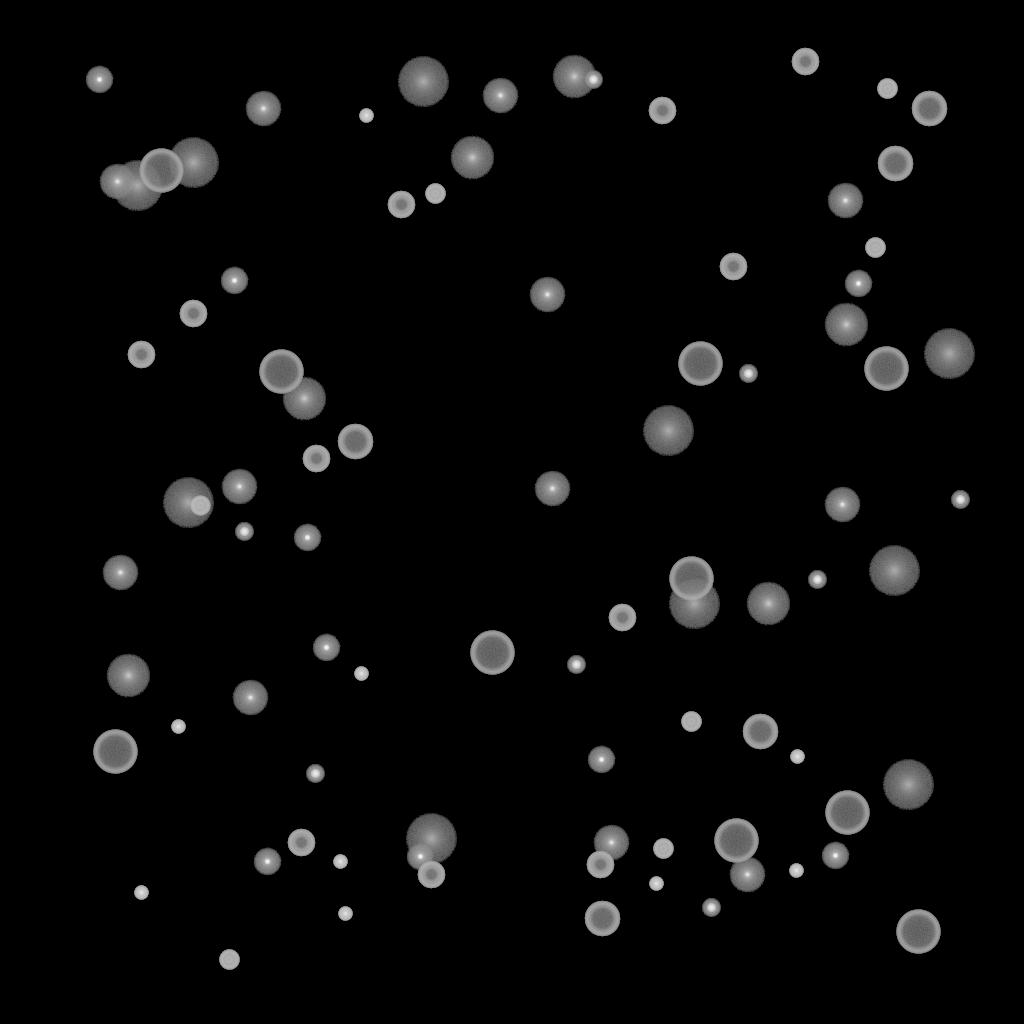depth:-10: (312, 634, 340, 662), (587, 746, 615, 774), (821, 842, 849, 870), (293, 524, 321, 552), (253, 848, 281, 876), (406, 843, 434, 871), (844, 270, 872, 298), (220, 267, 248, 295), (85, 66, 113, 94)
depth:-20: (584, 71, 602, 89), (951, 491, 969, 509), (235, 523, 253, 541), (567, 656, 585, 674), (306, 765, 324, 783), (702, 899, 720, 917), (808, 571, 826, 589), (739, 365, 757, 383)
depth:-30: (649, 877, 663, 891), (789, 864, 803, 878), (171, 720, 185, 734), (790, 750, 804, 764), (333, 855, 347, 869), (359, 109, 373, 123), (338, 907, 352, 921), (354, 667, 368, 681), (134, 886, 148, 900)
depth:-40: (425, 184, 445, 204), (653, 839, 673, 859), (865, 238, 885, 258), (681, 712, 701, 732), (190, 496, 210, 516), (219, 950, 239, 970), (877, 79, 897, 99)
depth:-50: (127, 341, 155, 369), (417, 861, 445, 889), (648, 97, 676, 125), (608, 604, 636, 632), (287, 829, 315, 857), (791, 48, 819, 76), (179, 300, 207, 328), (719, 253, 747, 281), (586, 851, 614, 879), (387, 191, 415, 219), (302, 445, 330, 473)
depth:-60: (584, 901, 620, 937), (337, 424, 373, 460), (742, 714, 778, 750), (877, 146, 913, 182), (911, 91, 947, 127)
depth:-70: (259, 350, 303, 394), (93, 730, 137, 774), (714, 819, 758, 863), (669, 557, 713, 601), (678, 342, 722, 386), (825, 791, 869, 835), (470, 631, 514, 675), (864, 347, 908, 391), (139, 149, 183, 193), (896, 910, 940, 954)
depth:0: (245, 91, 281, 127), (102, 555, 138, 591), (99, 164, 135, 200), (221, 469, 257, 505), (593, 825, 629, 861), (534, 471, 570, 507), (827, 183, 863, 219), (824, 487, 860, 523), (232, 680, 268, 716), (729, 857, 765, 893), (482, 78, 518, 114), (529, 277, 565, 313)
depth:10: (106, 654, 150, 698), (746, 582, 790, 626), (282, 377, 326, 421), (824, 303, 868, 347), (552, 55, 596, 99), (450, 136, 494, 180)
depth:20: (405, 814, 457, 864), (111, 161, 163, 211), (882, 760, 934, 810), (167, 138, 219, 188), (162, 478, 214, 528), (923, 329, 975, 379), (868, 546, 920, 596), (397, 57, 449, 107), (642, 406, 694, 456), (668, 579, 720, 629)
